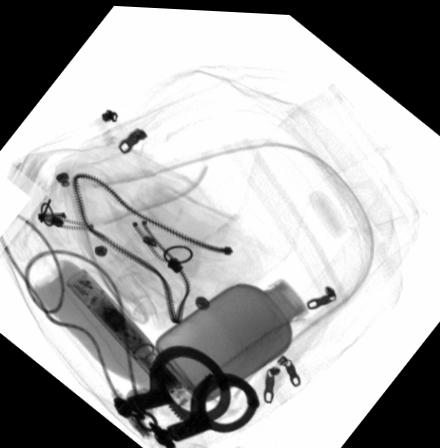Baton: (61, 266, 200, 414)
HandCuffs: (111, 341, 259, 448)
